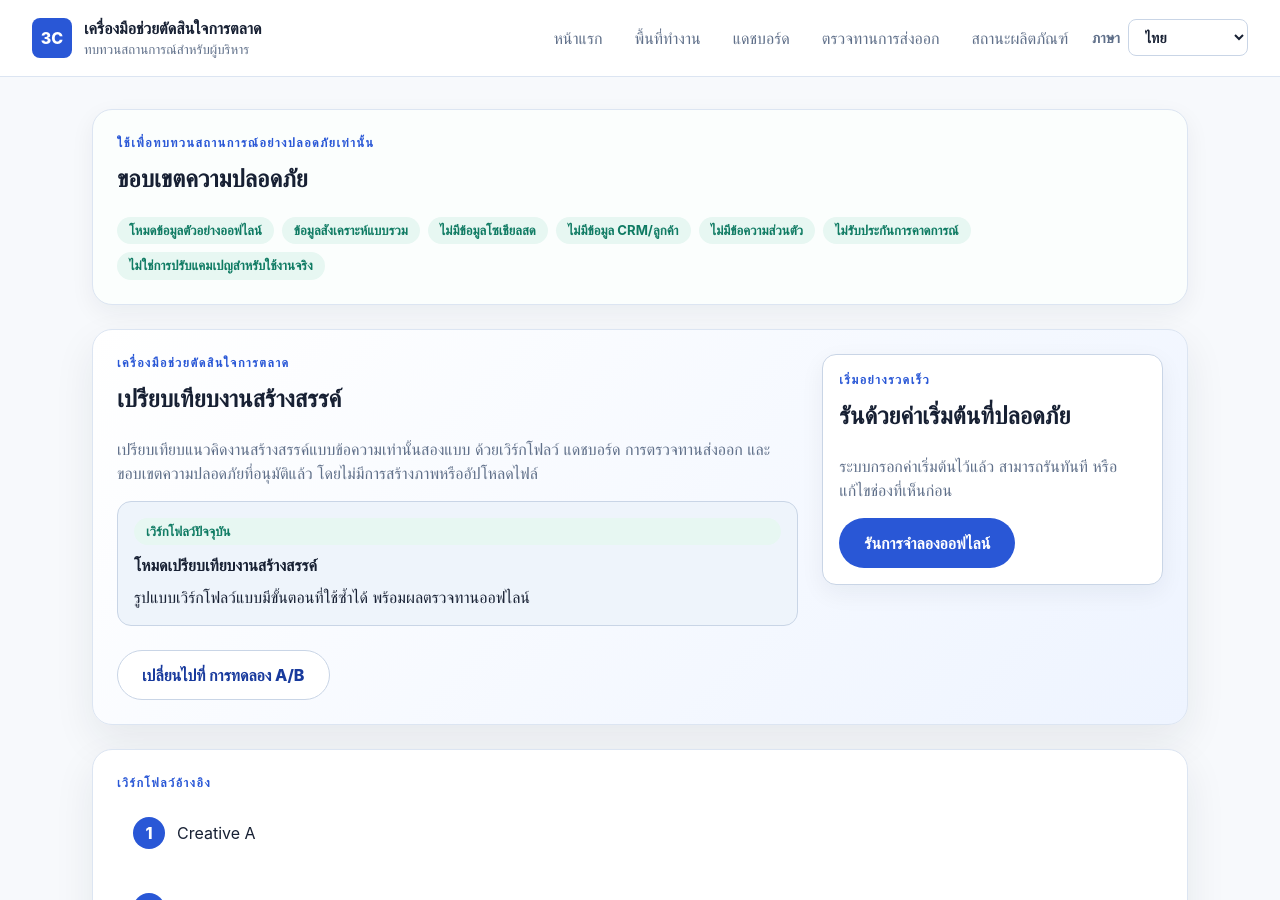
M18 Thai-first internationalization › renders Thai and English labels for /workbench/creative-comparison
Check: the heading "เปรียบเทียบงานสร้างสรรค์" is shown, box 117,384 -> 341,413
Select "English" in the dropdown labelled "ภาษา": x=1188, y=38 1128,20 -> 1248,56
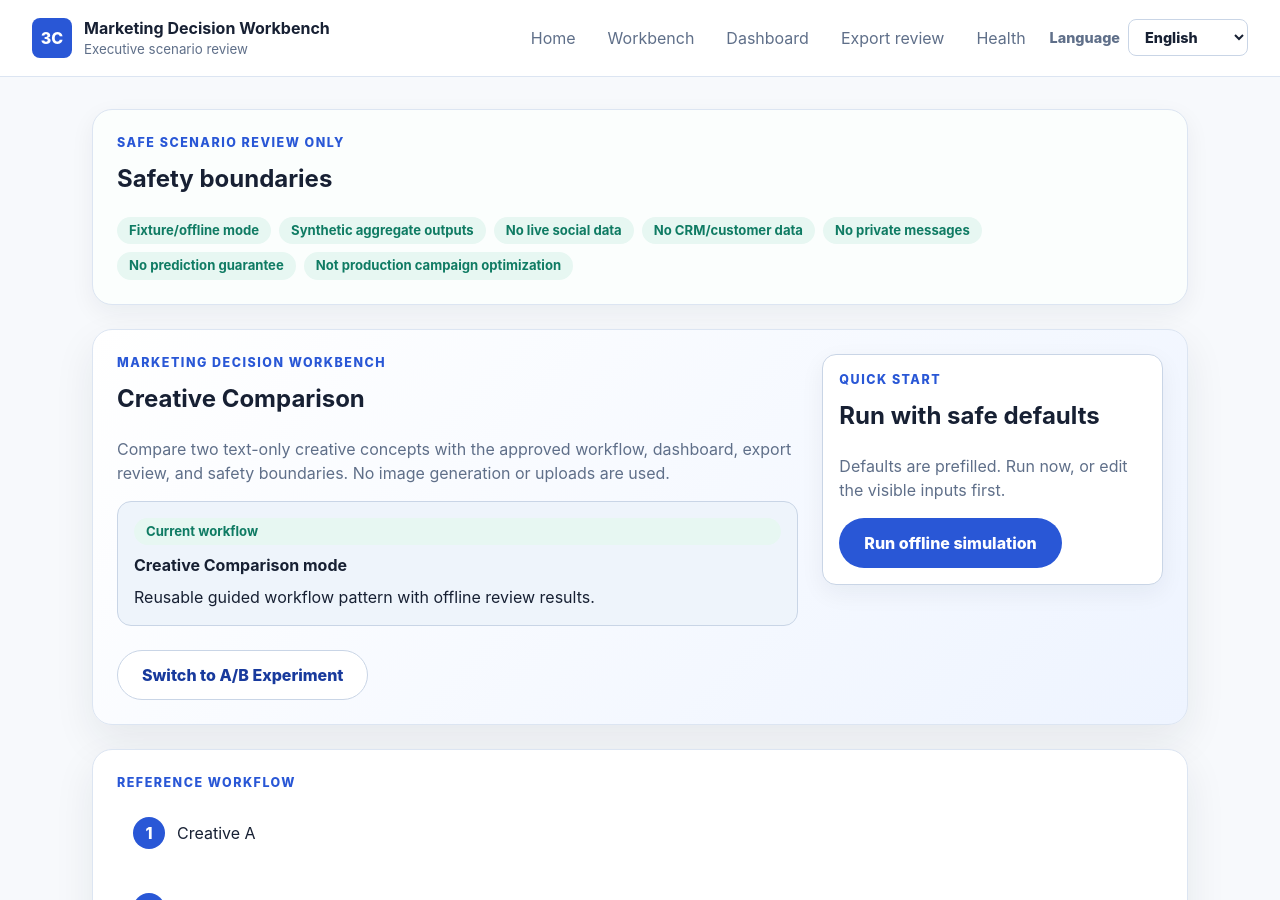
Check: the heading "Creative Comparison" is shown, box 117,384 -> 365,413
